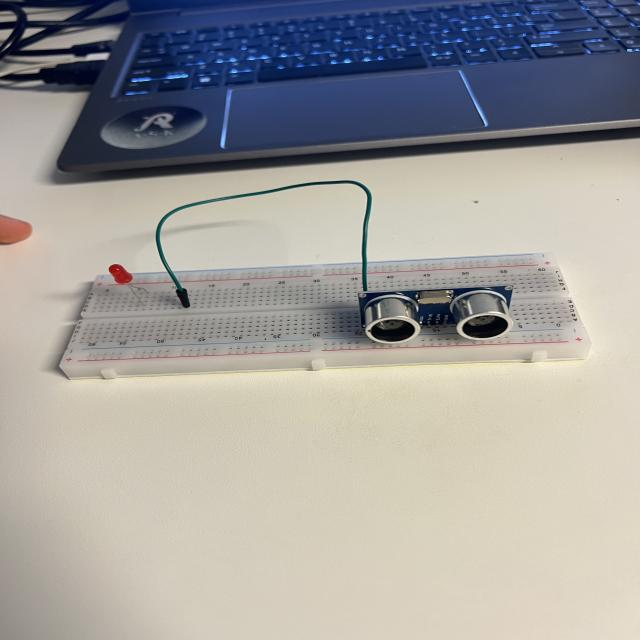BreadBoard: (59, 248, 603, 385)
REDLed: (103, 260, 158, 307)
